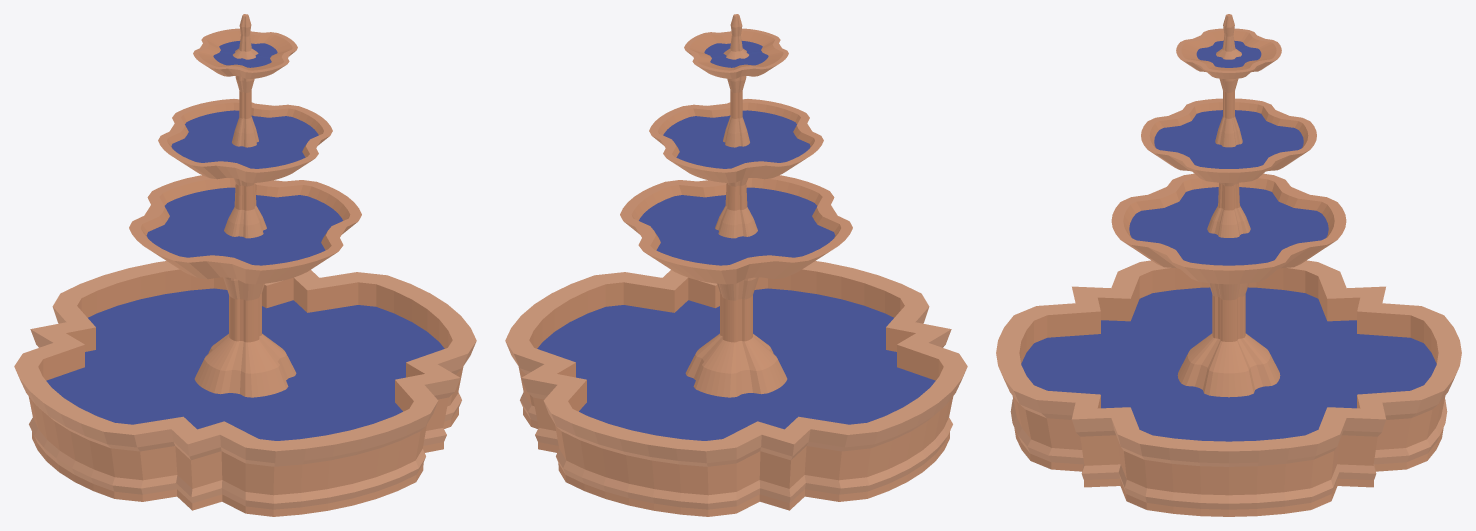
File: fountain.glb
3 renders of one model, left to right at view 1: azimuth 30°, elevation 25°; view 2: azimuth 150°, elevation 25°; view 3: azimuth 270°, elevation 25°, orthographic.
Parts seen in each view (by area): view 1: Fountain_0; view 2: Fountain_0; view 3: Fountain_0.
Boxes of the visible parts, <box> form: Fountain_0: <box>14,14,476,516</box>; Fountain_0: <box>505,14,967,516</box>; Fountain_0: <box>996,14,1461,516</box>.
Bounding box in the file's own units: 2.89 × 2.81 × 2.89.
Materials: 1 (1 with a texture image).
